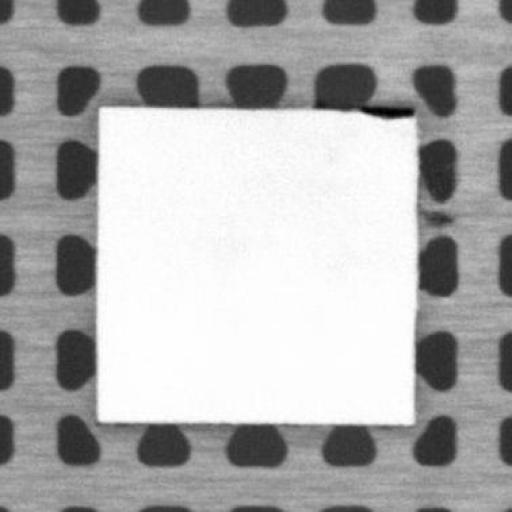DIE_BROKEN: (354, 100, 417, 120)
